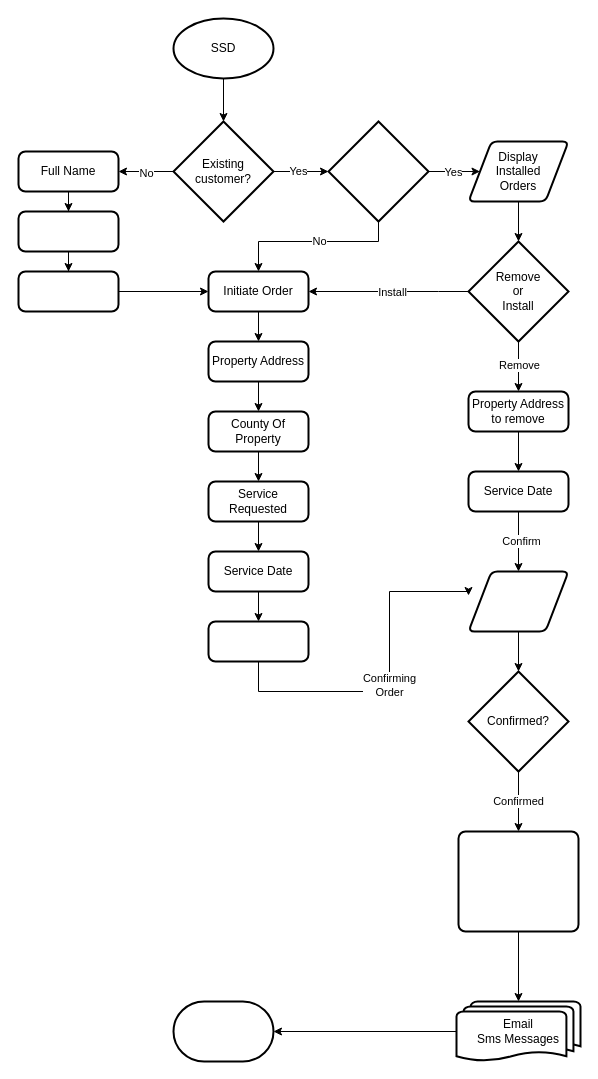
This 598x1079 diagram has some shape labels left out. Each missing label, with the centre of its shape:
Confirm Order: [518,601]
Email Address: [68,231]
End: [223,1031]
Installed Orders?: [378,171]
Property Occupancy: [258,641]
Real Estate Brokerage: [68,291]
Save Order Send Notifications Send Order Emails: [518,881]
